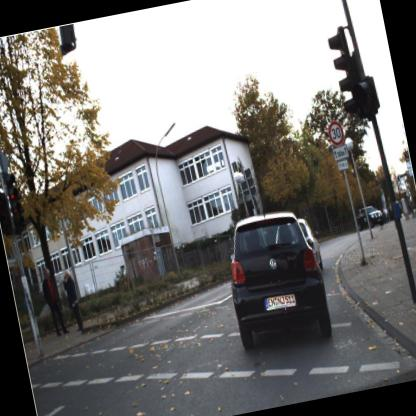prohibitory: (325, 116, 345, 147)
